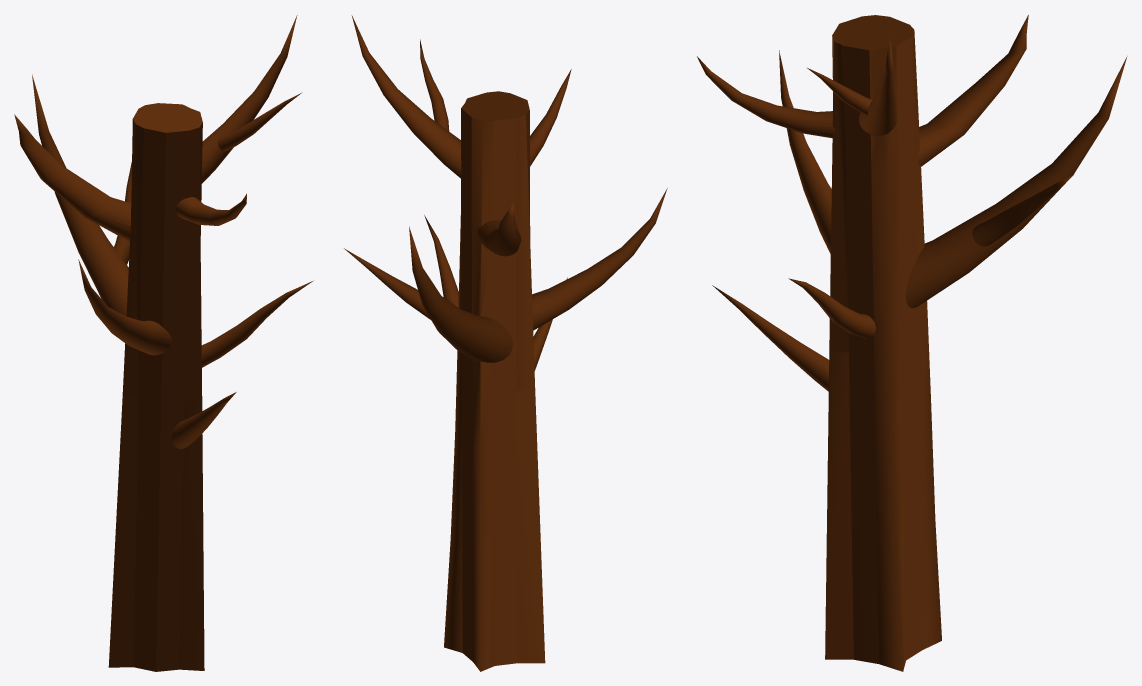
The model's file is Tree2.FBX.
The picture shows the model from 3 angles, left to right: view 1: azimuth 30°, elevation 25°; view 2: azimuth 150°, elevation 25°; view 3: azimuth 270°, elevation 25°; orthographic projection. The views are drawn at different scales.
Parts seen in each view (by area): view 1: Tree 3; view 2: Tree 3; view 3: Tree 3.
Boxes of the visible parts, box(x1,y1,x2,y2) form: Tree 3: box(14, 15, 312, 671); Tree 3: box(344, 15, 667, 671); Tree 3: box(697, 15, 1127, 671).
Bounding box in the file's own units: 173 × 374 × 211.
